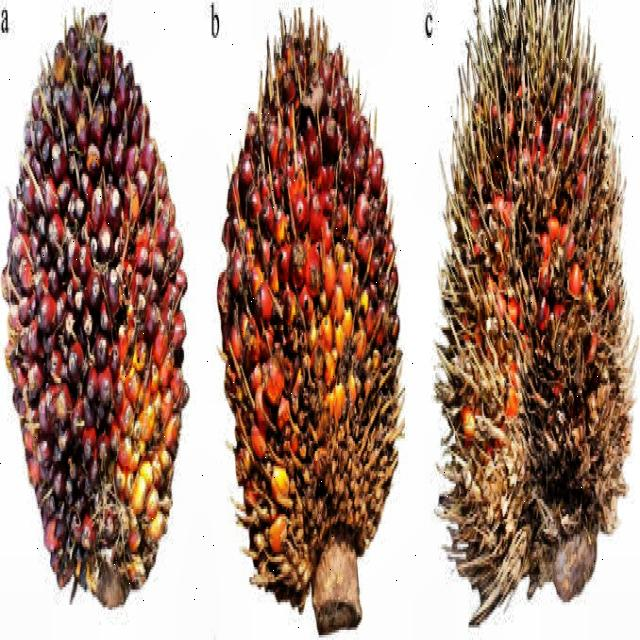FFB: (440, 14, 630, 612), (214, 14, 399, 626), (2, 20, 185, 607)
